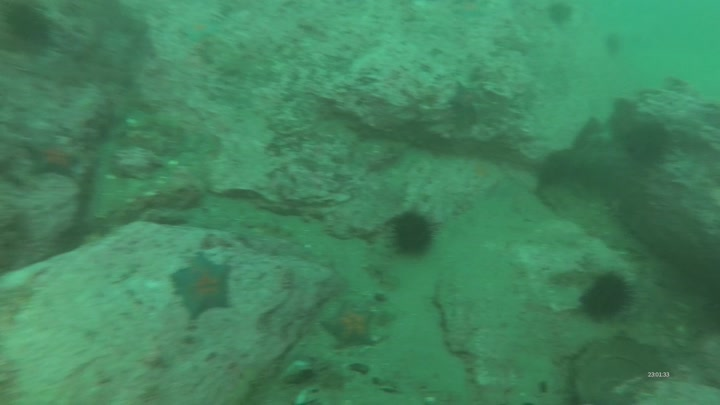echinus: (579, 267, 640, 324), (386, 207, 444, 261)
starfish: (167, 253, 236, 319), (323, 297, 380, 352), (20, 136, 87, 180), (448, 81, 488, 124)
